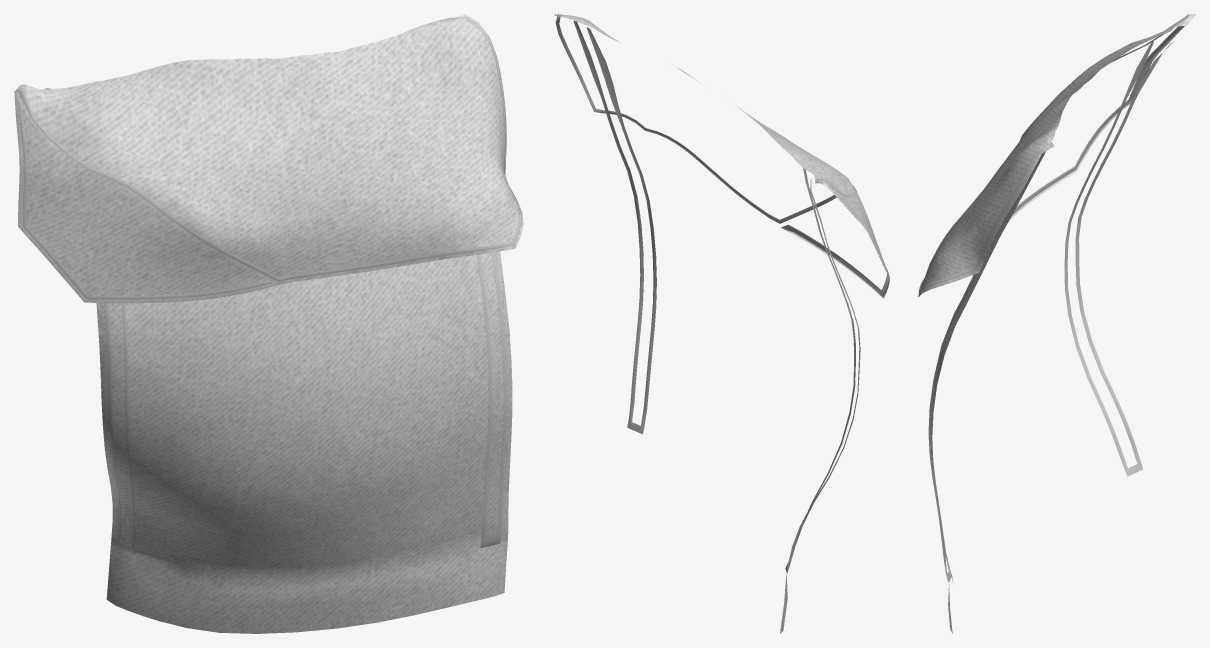
File: Jac_Pocket_LEFT_V2.glb
3 renders of one model, left to right at view 1: azimuth 30°, elevation 25°; view 2: azimuth 150°, elevation 25°; view 3: azimuth 270°, elevation 25°, orthographic. The views are drawn at different scales.
Visible parts, largest first — view 1: Jac_Pocket_LEFT_V21, Rope1; view 2: Rope1, Jac_Pocket_LEFT_V21; view 3: Jac_Pocket_LEFT_V21, Rope1.
Boxes of the visible parts, box(x1,y1,x2,y2) form: Jac_Pocket_LEFT_V21: box(14, 14, 523, 633); Rope1: box(18, 17, 521, 554); Rope1: box(555, 14, 888, 573); Jac_Pocket_LEFT_V21: box(554, 14, 889, 633); Jac_Pocket_LEFT_V21: box(918, 14, 1195, 633); Rope1: box(918, 15, 1187, 582).
Bounding box in the file's own units: 0.2066 × 0.2661 × 0.1282.
2 materials, 2 textured.
